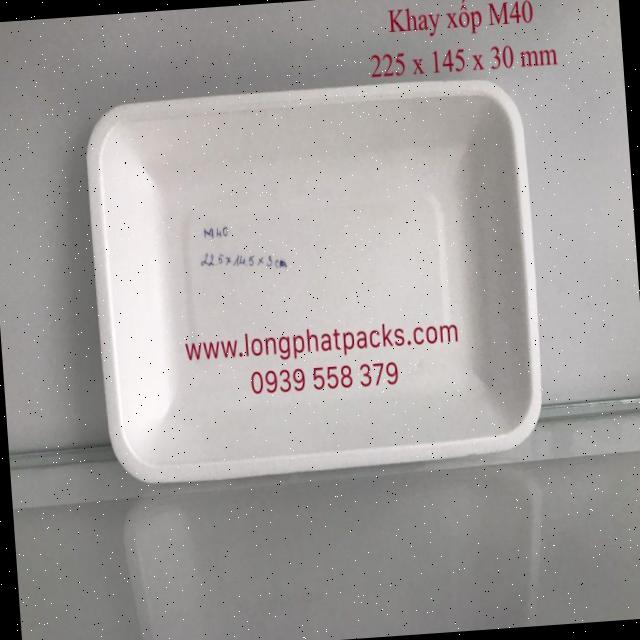styrofoam: (80, 71, 549, 488)
